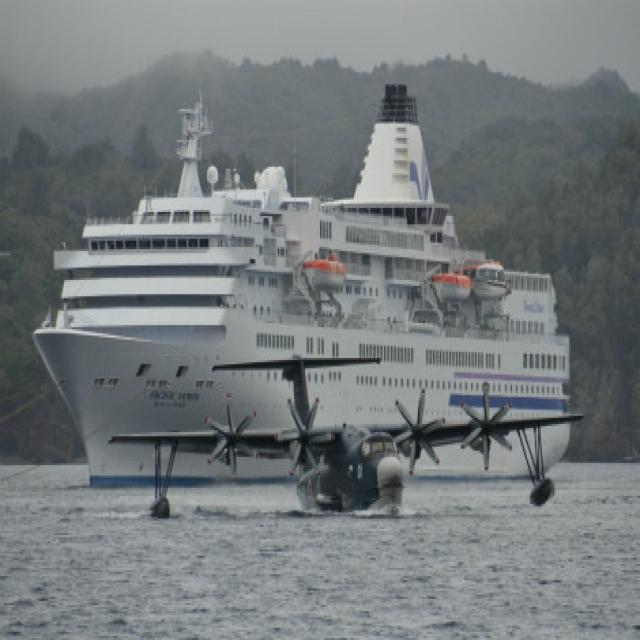MIL_Plane: (106, 354, 584, 519)
